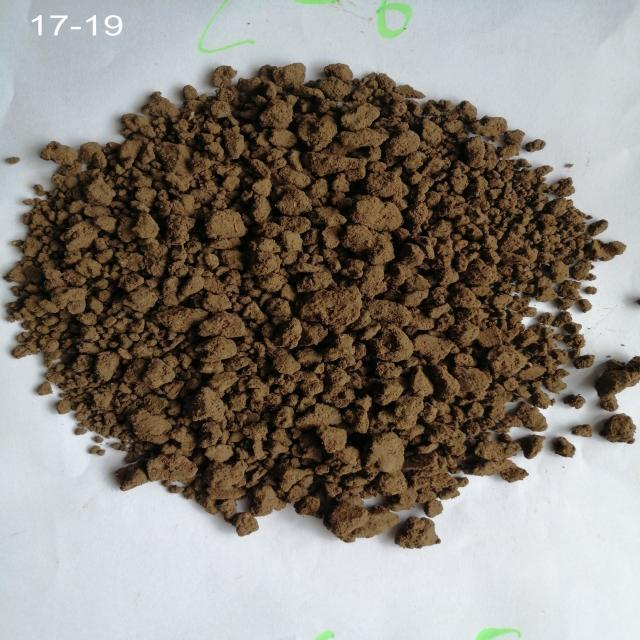soil: (152, 115, 480, 447)
